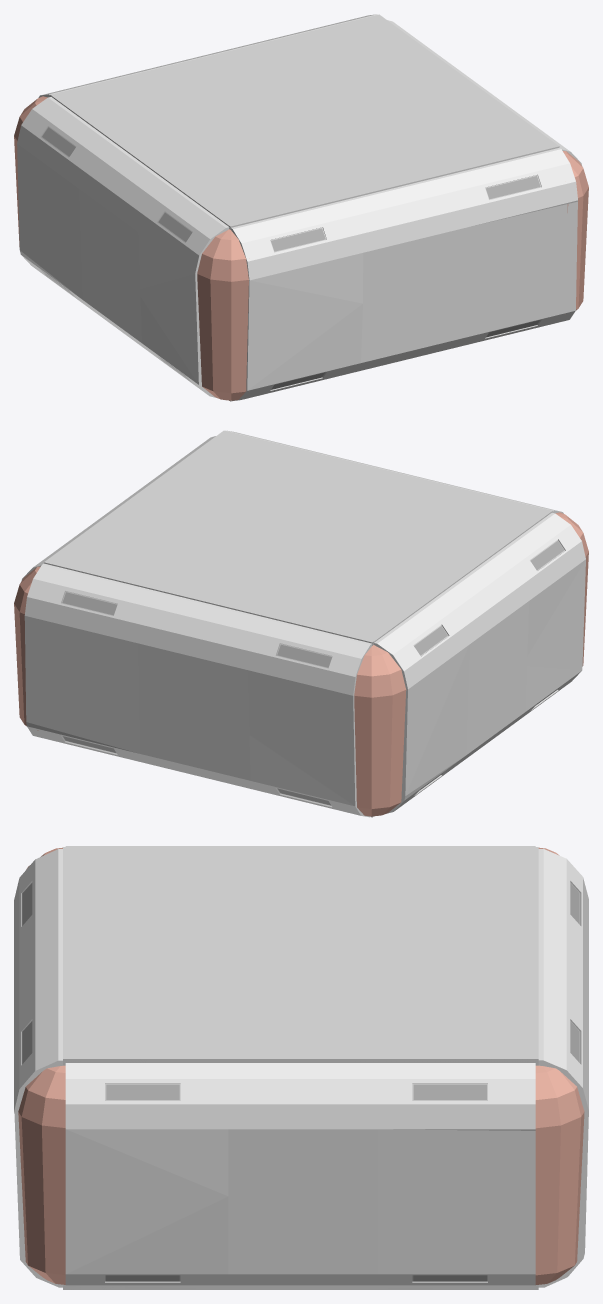
The picture shows the model from 3 angles, top to bottom: view 1: azimuth 30°, elevation 25°; view 2: azimuth 150°, elevation 25°; view 3: azimuth 270°, elevation 25°; orthographic projection. The views are drawn at different scales.
Visible parts, largest first — view 1: Sphere; view 2: Sphere; view 3: Sphere.
Part boxes in pixels (x1,y1,x2,y2): Sphere: (14,14,588,401); Sphere: (14,430,588,817); Sphere: (14,846,588,1289).
Bounding box in the file's own units: 1476 × 633 × 1429.
